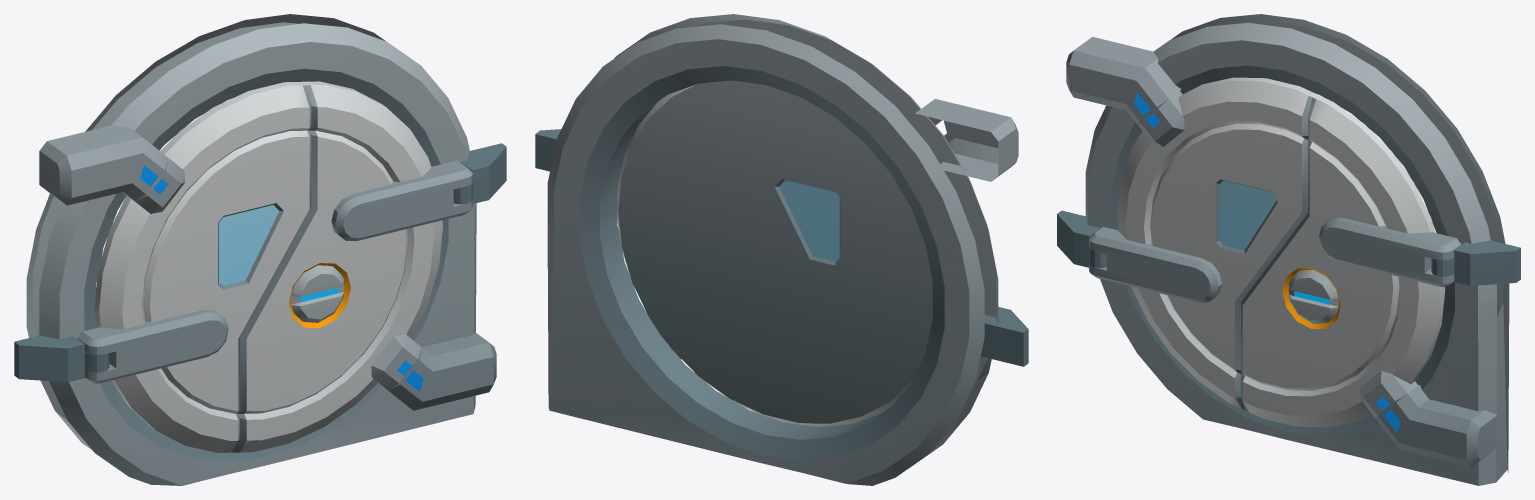
The model's file is bulkhead_portal_2x1_breached.glb.
3 views of the same model, side by side, from view 1: azimuth 30°, elevation 25°; view 2: azimuth 150°, elevation 25°; view 3: azimuth 330°, elevation 25° (orthographic). The views are drawn at different scales.
Parts seen in each view (by area): view 1: Door_006, Door_panel_010, Door_panel_011, Door_panel_009; view 2: Door_006, Door_panel_011, Door_panel_010; view 3: Door_006, Door_panel_010, Door_panel_011, Door_panel_009.
Boxes of the visible parts, x1,y1,x2,y2 form: Door_006: (14, 14, 506, 485); Door_panel_010: (77, 82, 311, 452); Door_panel_011: (235, 81, 472, 452); Door_panel_009: (290, 265, 344, 322); Door_006: (535, 14, 1028, 485); Door_panel_011: (617, 80, 820, 426); Door_panel_010: (745, 82, 932, 426); Door_006: (1057, 14, 1520, 485); Door_panel_010: (1089, 77, 1316, 410); Door_panel_011: (1241, 94, 1461, 427); Door_panel_009: (1288, 269, 1338, 323).
Size of the model in its own units: 3.59 by 3.02 by 0.5724.
Materials: 2 (2 with a texture image).
